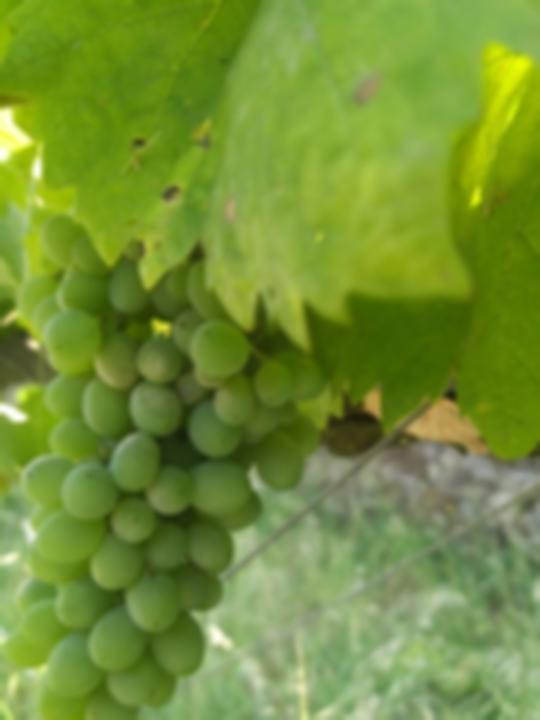grape: (0, 209, 336, 720)
